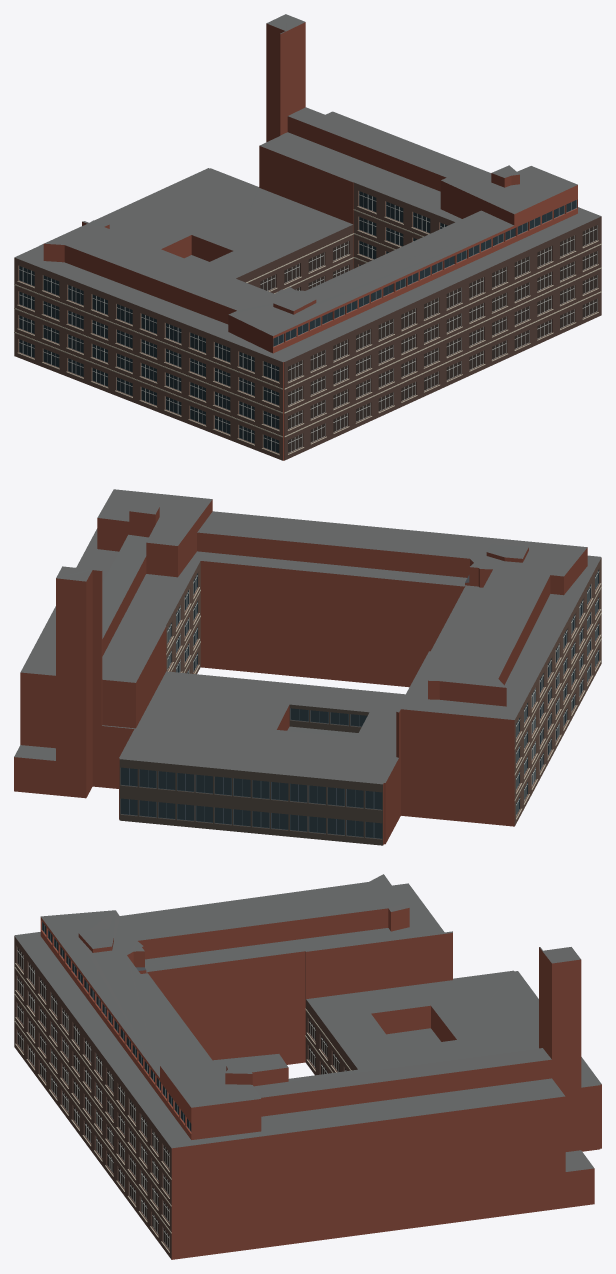
File: recipe-large-valckenierstraat-65-170734.glb
3 views of the same model, one above another, from view 1: azimuth 30°, elevation 25°; view 2: azimuth 150°, elevation 25°; view 3: azimuth 270°, elevation 25° (orthographic). The views are drawn at different scales.
Parts seen in each view (by area): view 1: valckenierstraat-65-170734; view 2: valckenierstraat-65-170734; view 3: valckenierstraat-65-170734.
Part boxes in pixels (<box>): valckenierstraat-65-170734: <box>14,14,601,460</box>; valckenierstraat-65-170734: <box>14,489,601,845</box>; valckenierstraat-65-170734: <box>14,874,601,1259</box>.
Bounding box in the file's own units: 82.45 × 32.8 × 77.14.
